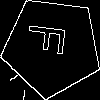F: (27, 22, 75, 58)
